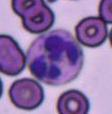N: (28, 30, 84, 86)
